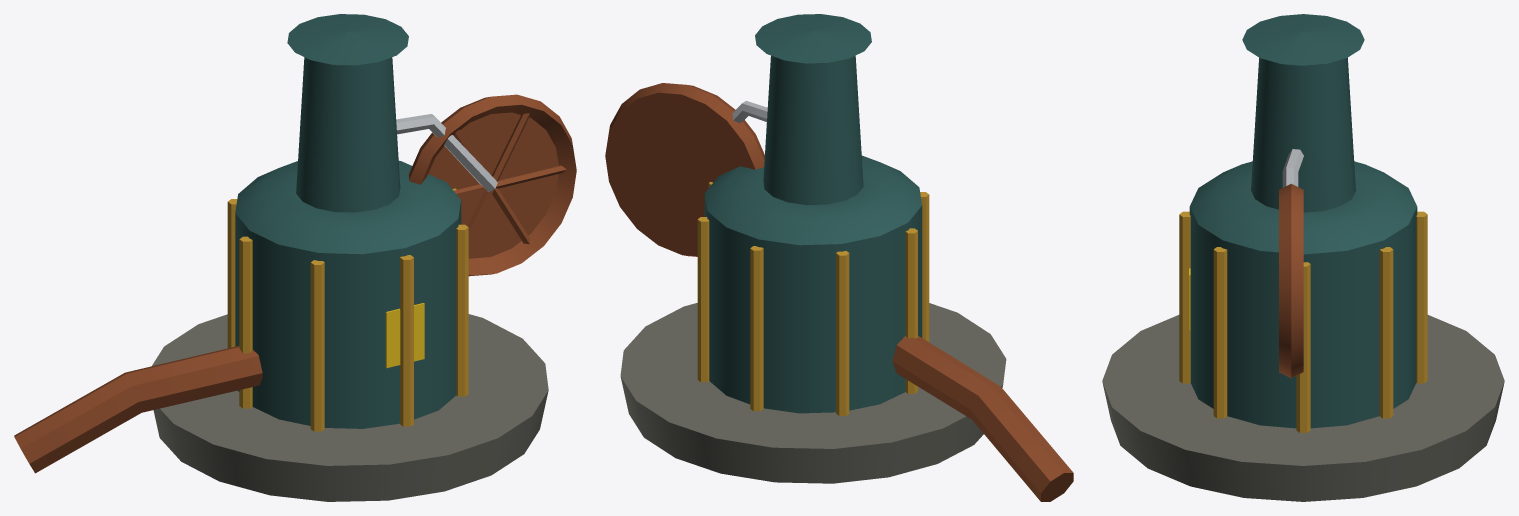
Rendered from pump_engine.glb.
The picture shows the model from 3 angles, left to right: view 1: azimuth 30°, elevation 25°; view 2: azimuth 150°, elevation 25°; view 3: azimuth 270°, elevation 25°; orthographic projection. The views are drawn at different scales.
Parts seen in each view (by area): view 1: pump_engine; view 2: pump_engine; view 3: pump_engine.
Part boxes in pixels (left/top/right/bottom): pump_engine: left=14, top=14, right=576, bottom=501; pump_engine: left=605, top=14, right=1073, bottom=501; pump_engine: left=1102, top=14, right=1504, bottom=501.
Bounding box in the file's own units: 6.86 × 4.99 × 4.6.
